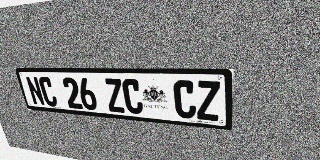2: (61, 77, 83, 109)
6: (76, 78, 98, 110)
C: (173, 80, 196, 119), (121, 79, 144, 114), (37, 77, 59, 107)
N: (25, 76, 46, 106)
Z: (196, 81, 220, 121), (103, 78, 126, 113)
